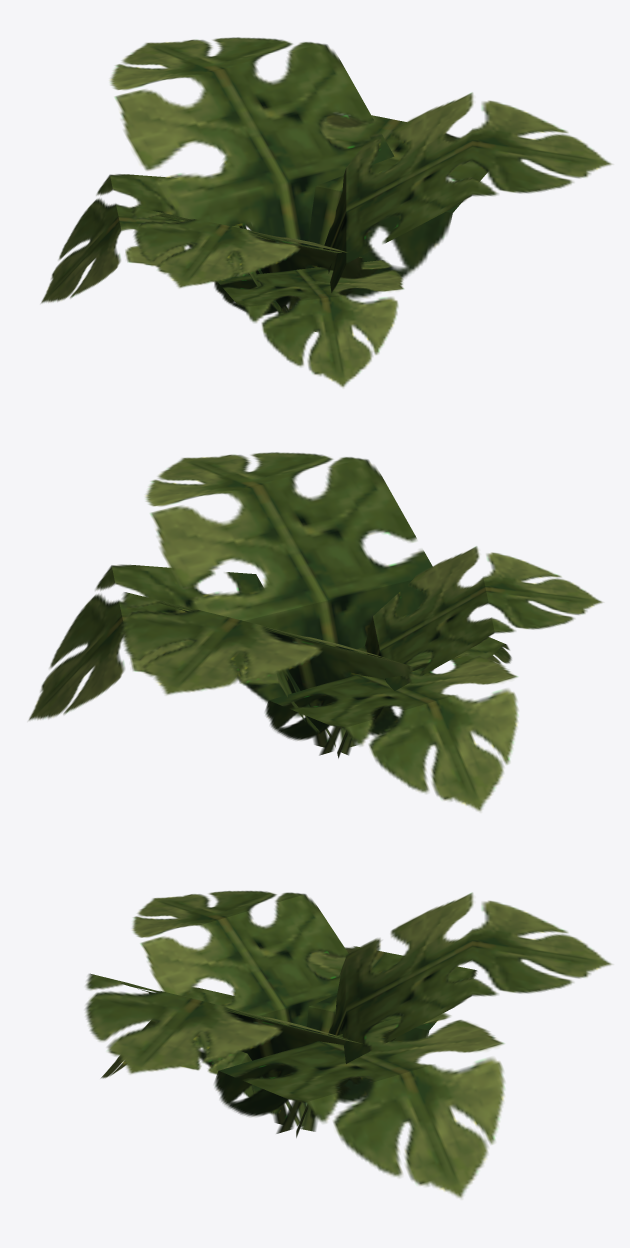
File: lp_bush_b.glb
3 renders of one model, top to bottom at view 1: azimuth 30°, elevation 25°; view 2: azimuth 150°, elevation 25°; view 3: azimuth 270°, elevation 25°, orthographic. The views are drawn at different scales.
Parts seen in each view (by area): view 1: lp_bush_b; view 2: lp_bush_b; view 3: lp_bush_b.
Boxes of the visible parts, x1,y1,x2,y2 form: lp_bush_b: [41, 37, 611, 387]; lp_bush_b: [28, 452, 602, 811]; lp_bush_b: [85, 891, 612, 1198].
Bounding box in the file's own units: 0.8324 × 0.2763 × 0.7926.
1 material, 1 textured.
